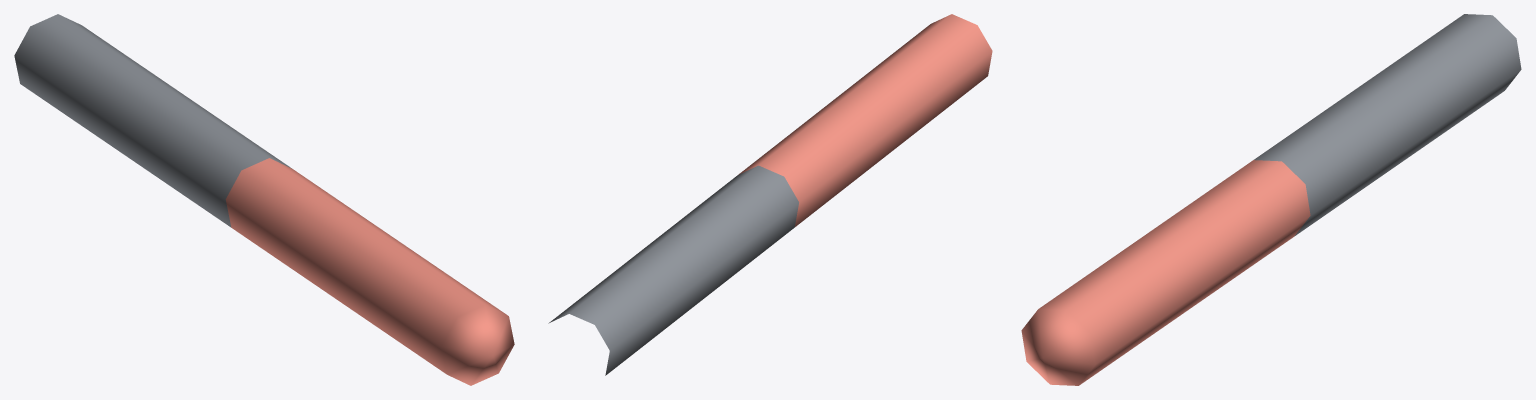
Rendered from sigma_apap_C1O.glb.
3 renders of one model, left to right at view 1: azimuth 30°, elevation 25°; view 2: azimuth 150°, elevation 25°; view 3: azimuth 330°, elevation 25°, orthographic. The views are drawn at different scales.
Visible parts, largest first — view 1: node-geom27.001; view 2: node-geom27.001; view 3: node-geom27.001.
Boxes of the visible parts, box(x1,y1,x2,y2) form: node-geom27.001: box(14, 14, 514, 385); node-geom27.001: box(548, 14, 992, 375); node-geom27.001: box(1021, 14, 1521, 385).
Bounding box in the file's own units: 0.1419 × 0.1712 × 1.43.
